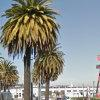Tree: (10, 0, 69, 84)
